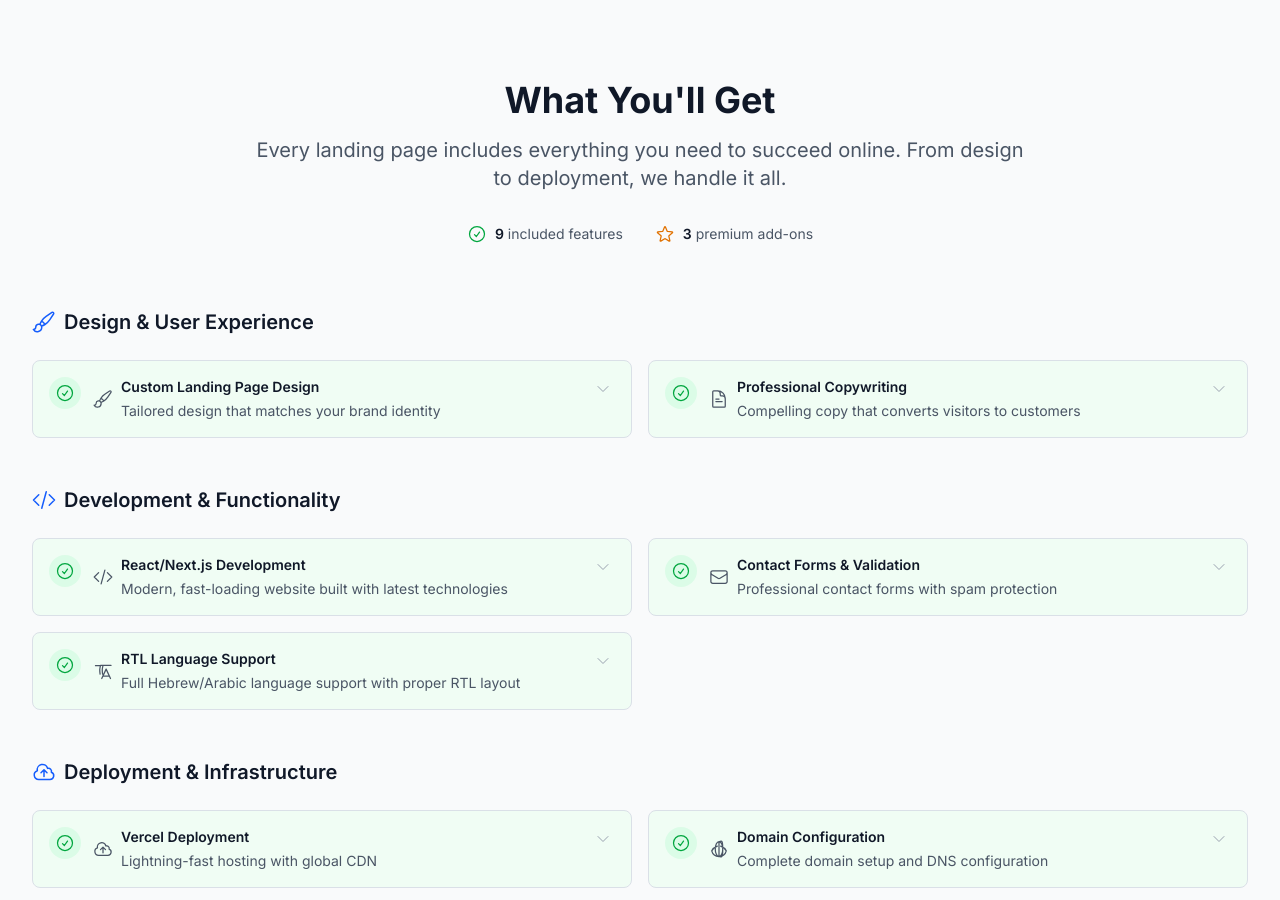
Deliverables Component › handles multiple items being expanded simultaneously
Note: Expand first item (Custom Design)
Click the button named "expand details" in the row of "Custom Landing Page Design": click(603, 389) [591,377,615,401]
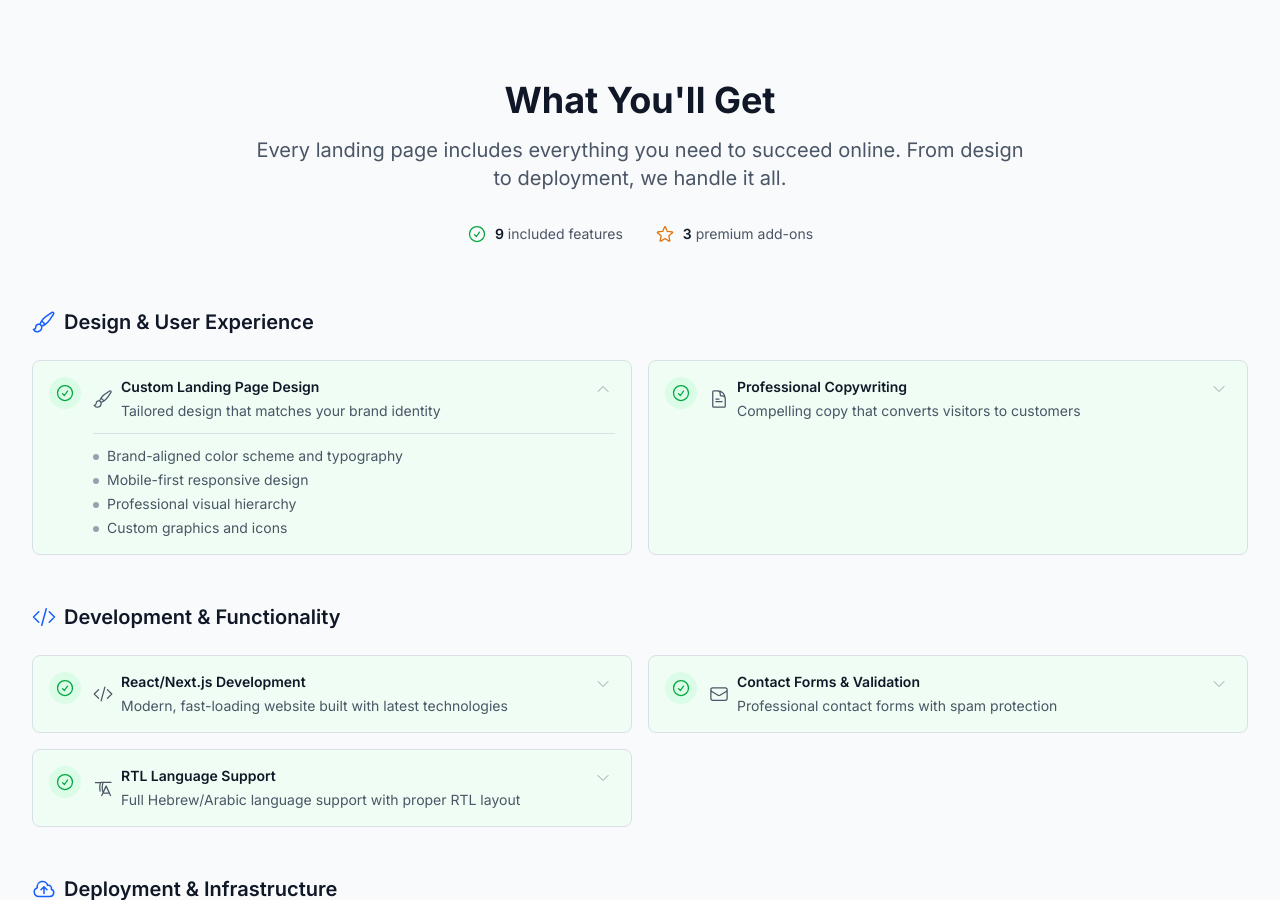
Note: Expand second item (Copywriting)
Click the button named "expand details" in the row of "Professional Copywriting": click(1219, 389) [1207,377,1231,401]
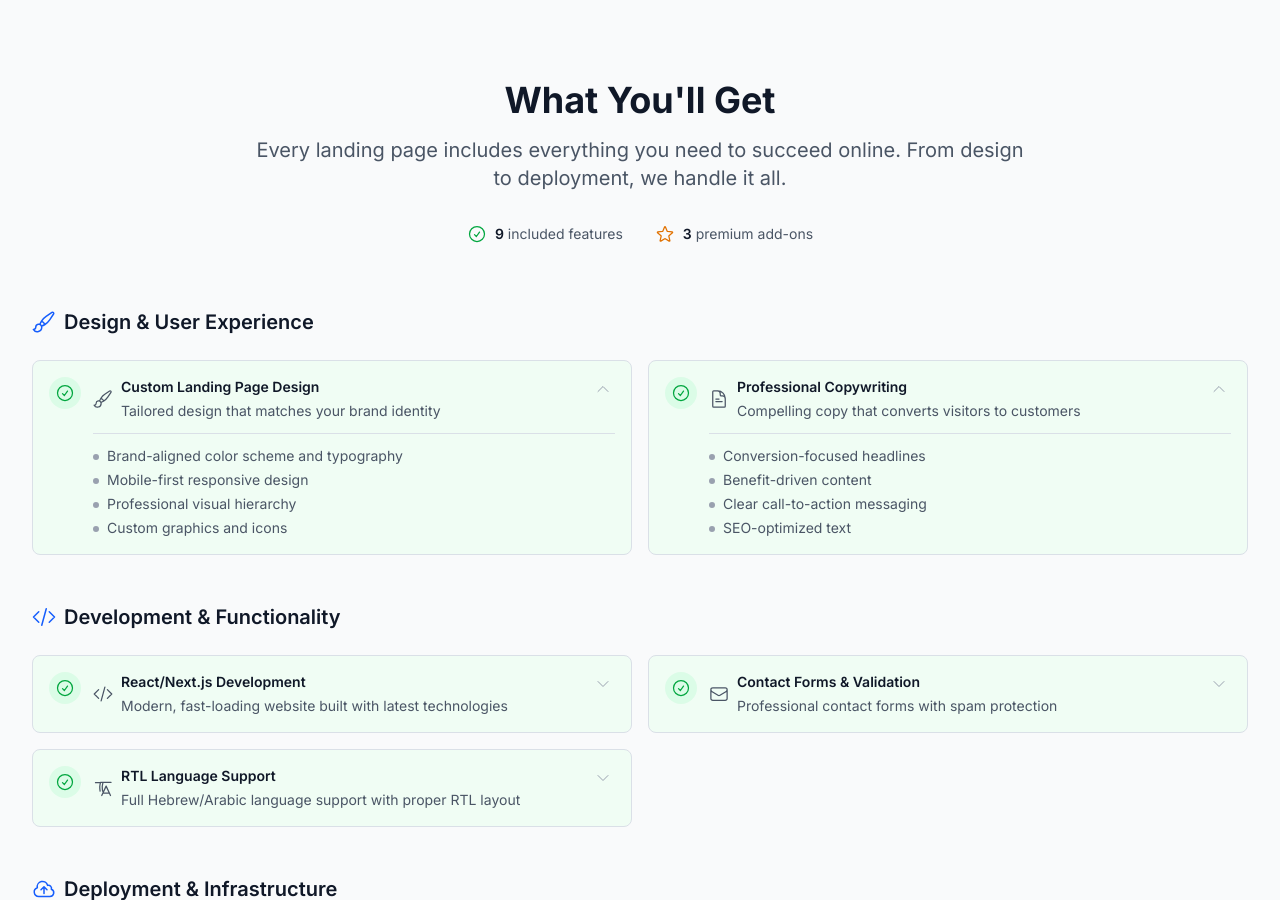
Expected: the list item "Brand-aligned color scheme and typography" is shown, [93,447,403,464]
Expected: the list item "Conversion-focused headlines" is shown, [709,447,926,464]
